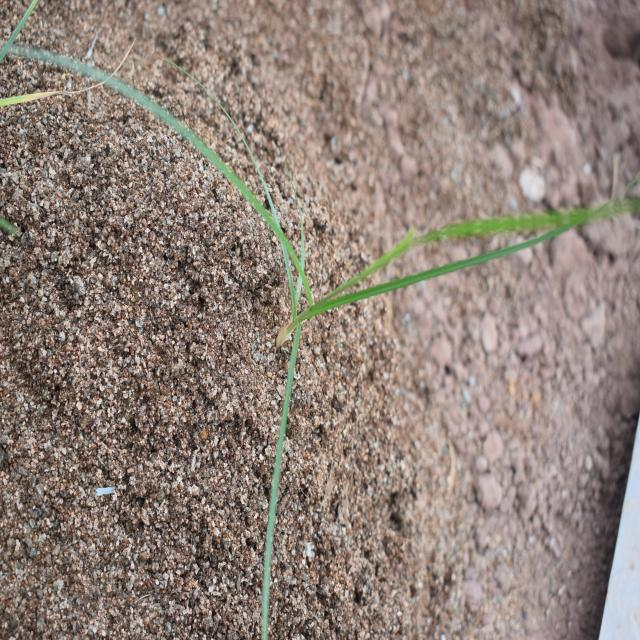sedge: (82, 49, 563, 497)
